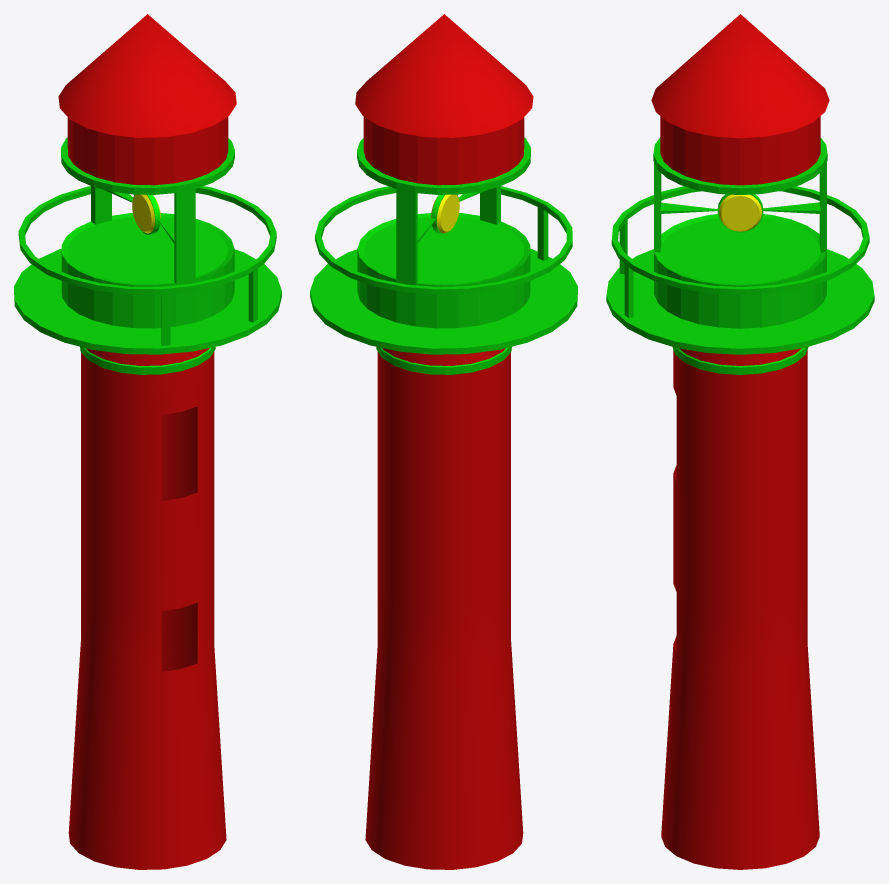
The model's file is Lighthouse 1.fbx.
3 renders of one model, left to right at view 1: azimuth 30°, elevation 25°; view 2: azimuth 150°, elevation 25°; view 3: azimuth 270°, elevation 25°, orthographic.
Parts seen in each view (by area): view 1: Lighthouse, Lamp; view 2: Lighthouse, Lamp; view 3: Lighthouse, Lamp.
Boxes of the visible parts, x1,y1,x2,y2 form: Lighthouse: [14, 14, 281, 869]; Lamp: [132, 194, 160, 234]; Lighthouse: [310, 14, 577, 869]; Lamp: [431, 194, 459, 234]; Lighthouse: [606, 14, 874, 869]; Lamp: [717, 194, 763, 232].
Size of the model in its own units: 3.98 by 13.51 by 3.99.
